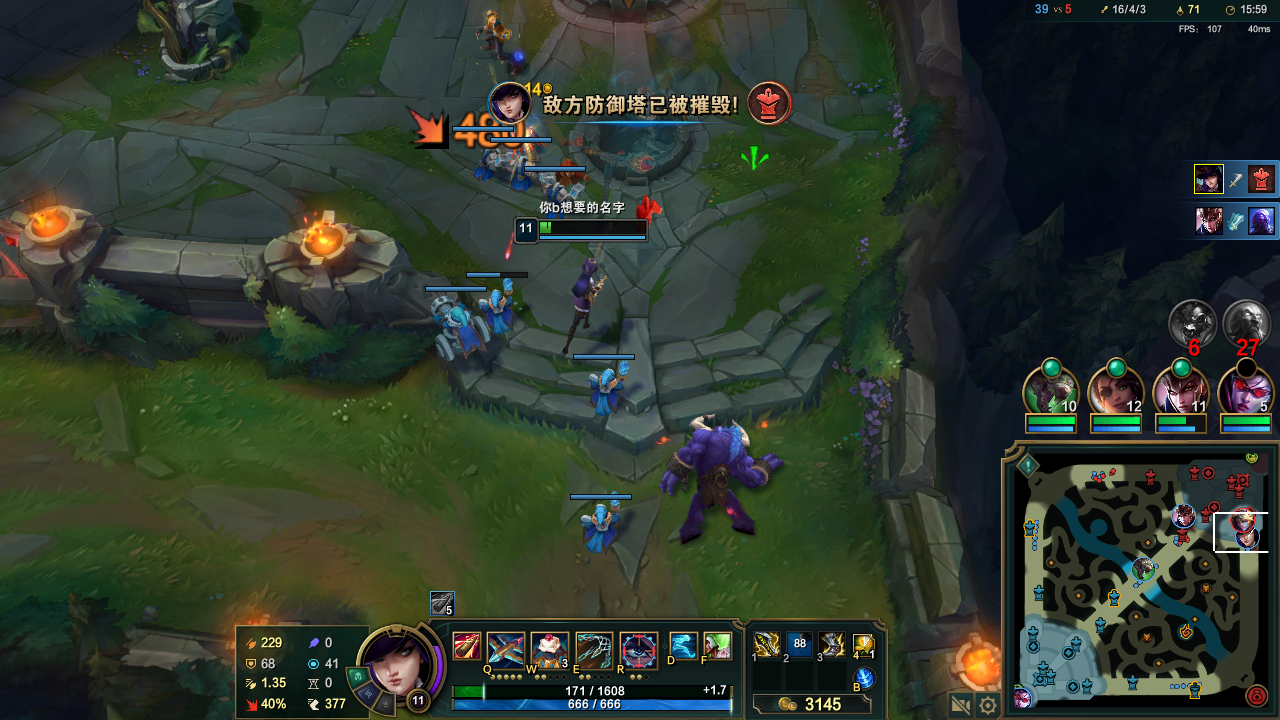WFXB: (429, 306, 488, 365), (586, 370, 632, 413), (581, 506, 621, 554), (484, 291, 521, 337), (500, 154, 537, 196), (538, 177, 575, 213), (477, 147, 504, 174)
